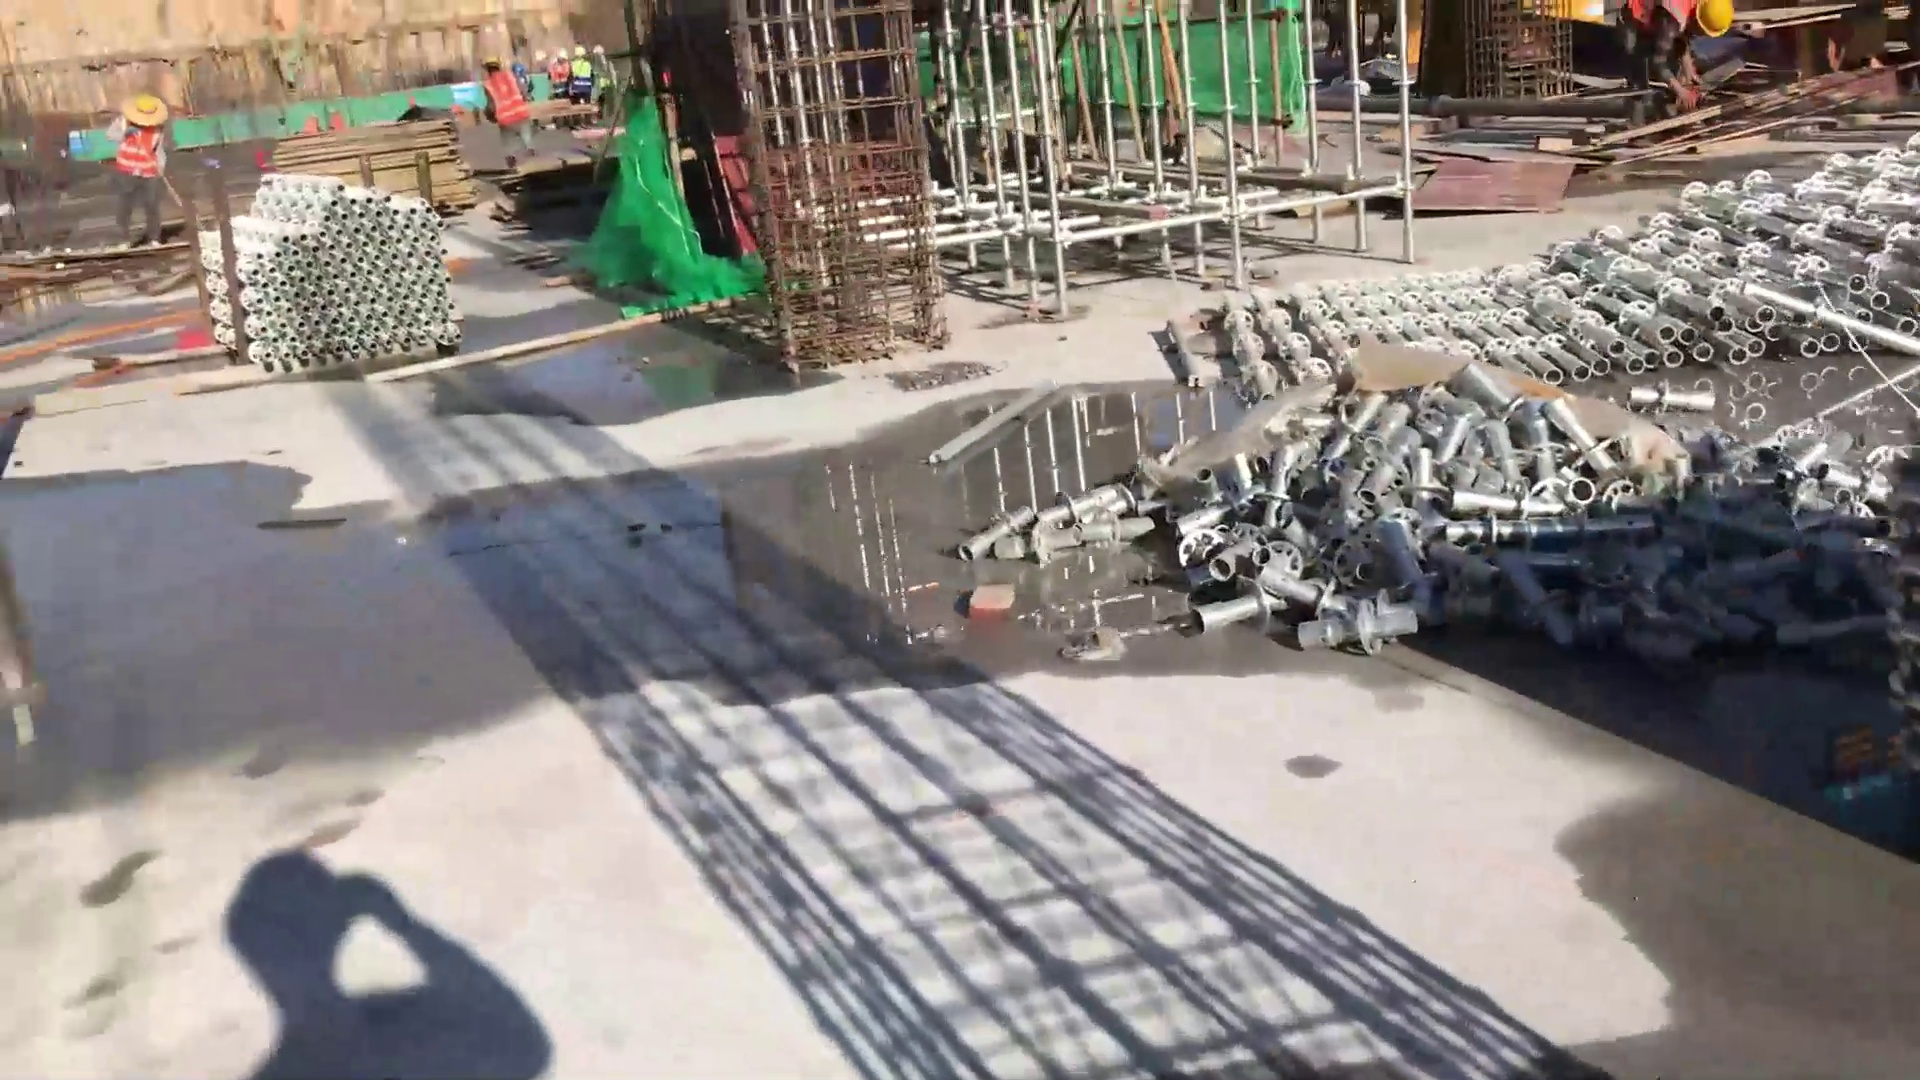helmet: (1697, 1, 1737, 41), (481, 55, 503, 68), (574, 47, 590, 62), (592, 45, 605, 58), (512, 62, 522, 76), (556, 47, 566, 62)
person: (1617, 1, 1739, 116), (100, 84, 181, 256), (477, 56, 528, 141), (569, 44, 592, 103), (546, 44, 571, 96)
vest: (116, 121, 179, 187), (485, 69, 533, 129), (570, 60, 596, 90)
